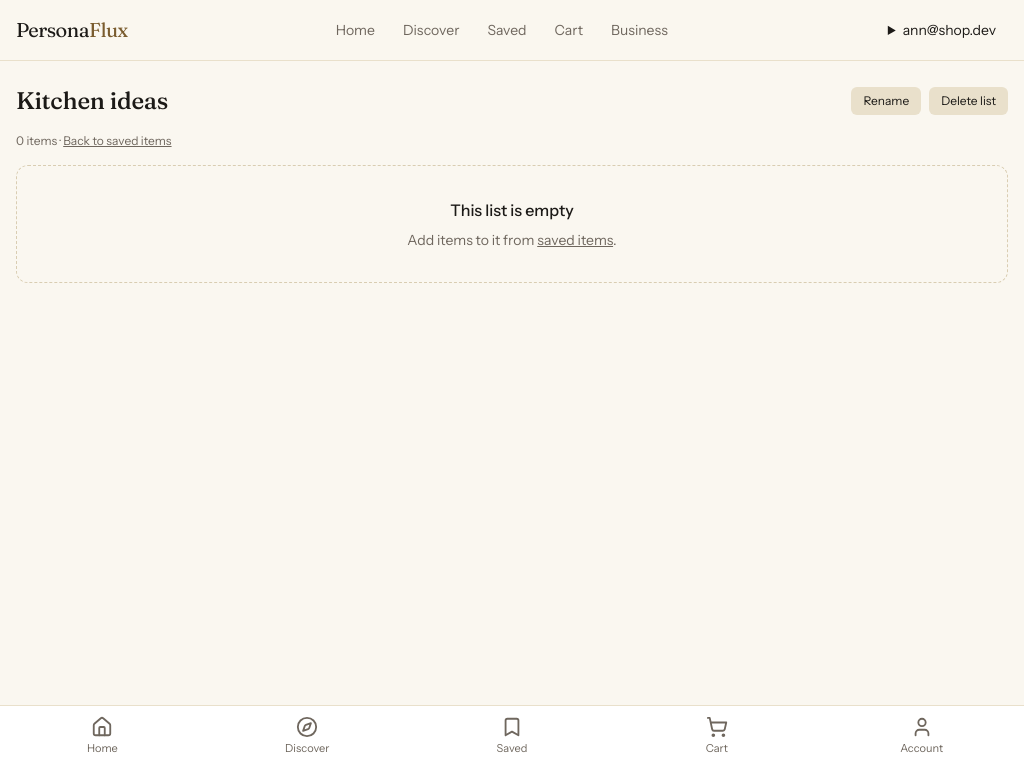
Test: curated lists › renames a list
Step 1. Click the button "Rename" → (886,101), box [852,87,921,115]
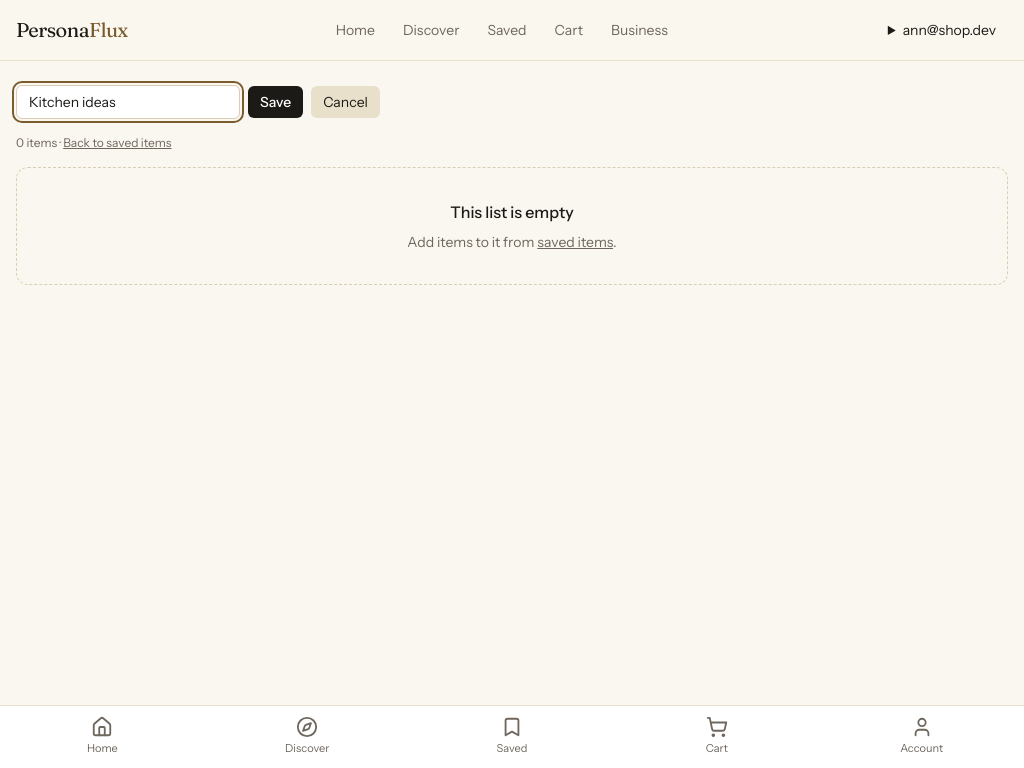
Step 2. Replace the text in the field named "List name" with "Winter picks" → (128,102), box [16,85,240,119]
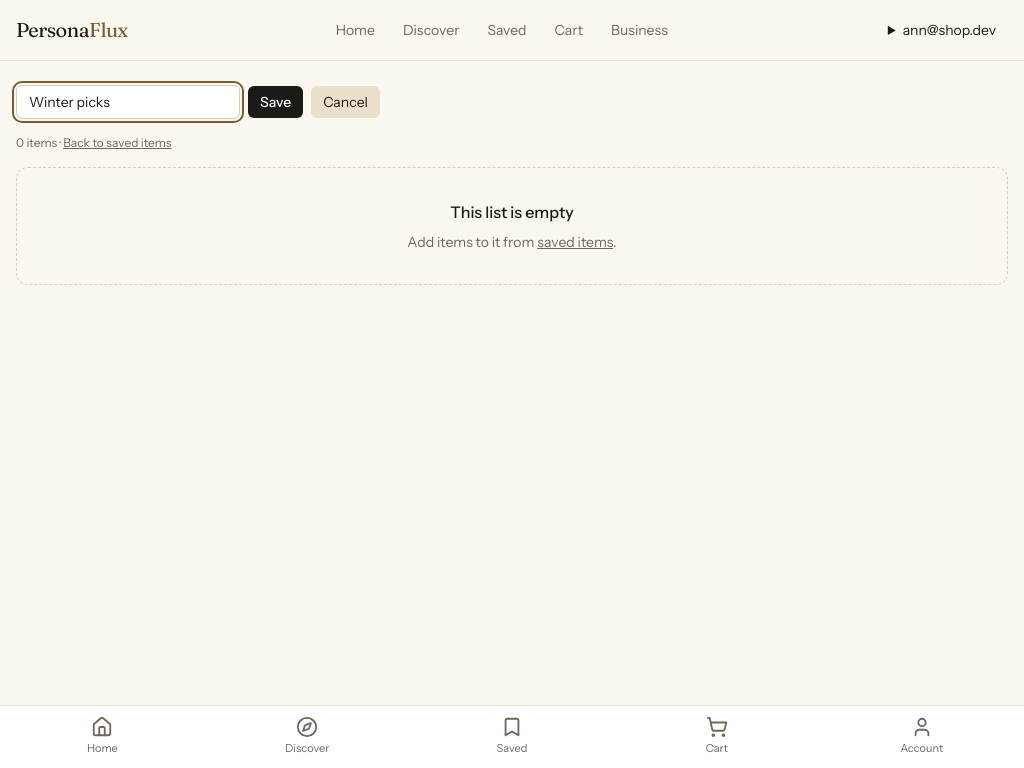
Step 3. Click the button "Save" → (276,102), box [248,86,303,118]
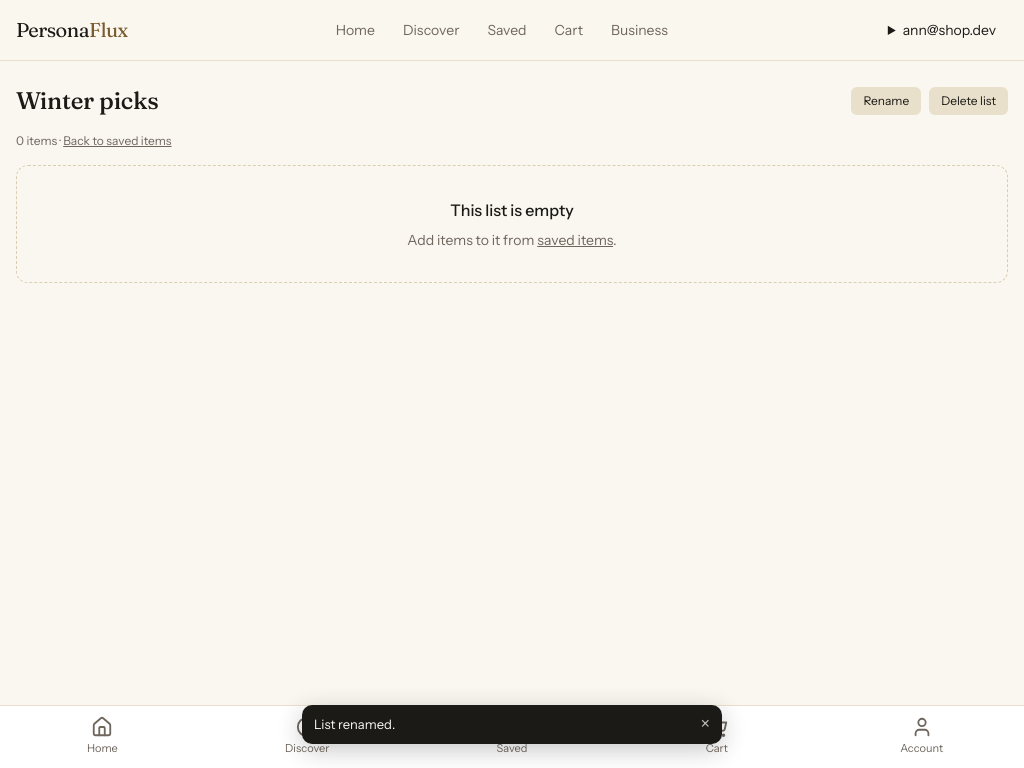
Expected: the heading "Winter picks" is shown, [16,85,158,117]
